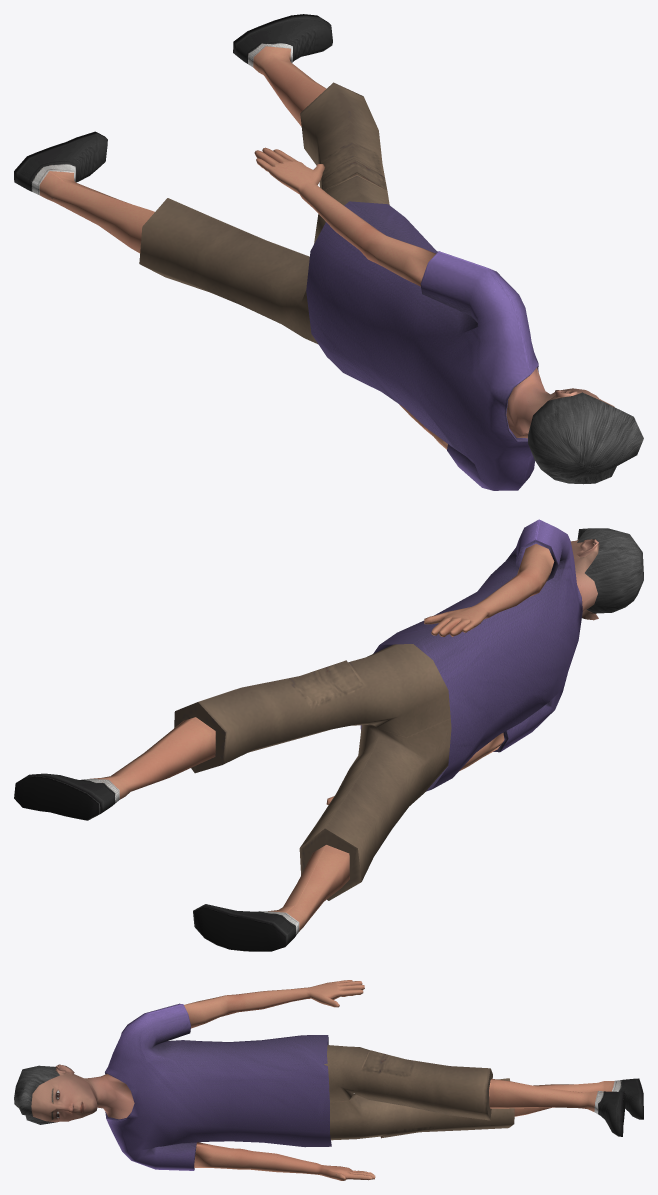
File: walk.obj
The picture shows the model from 3 angles, top to bottom: view 1: azimuth 30°, elevation 25°; view 2: azimuth 150°, elevation 25°; view 3: azimuth 270°, elevation 25°; orthographic projection. The views are drawn at different scales.
Size of the model in its own units: 0.6467 by 0.5022 by 1.77.
1 material, 1 textured.
